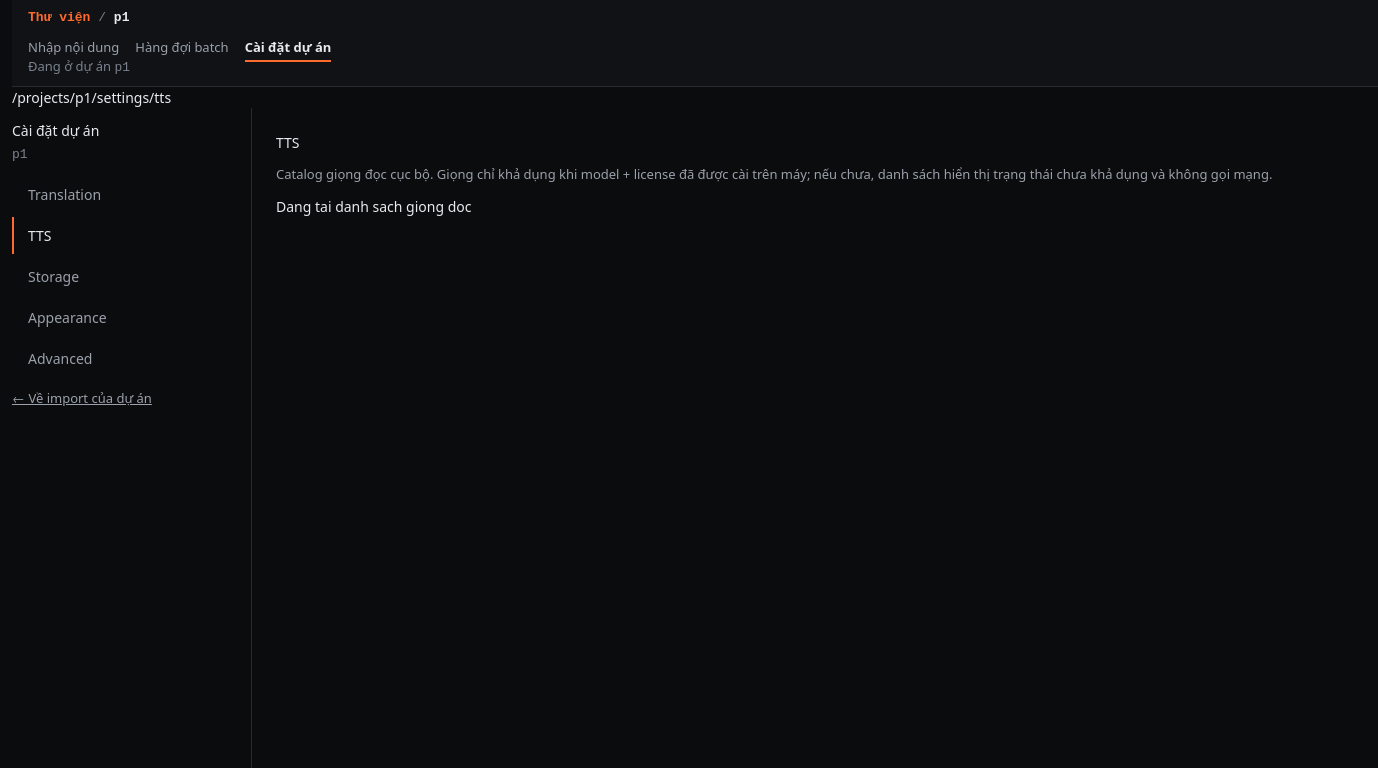
Scenario: project settings route integration (U02) › keeps the project context when the user moves back to another group
The width and height of the screenshot is (1378, 768).
expect the element named "TTS dự án" is shown: met, box [276,132,1354,217]
expect the navigation bar "dự án" shows "p1": met, box [114,10,129,25]
The group sidebar switches between nested groups with real links.
Step 1. Click the link "Storage" → (54, 276), box [28,267,79,286]
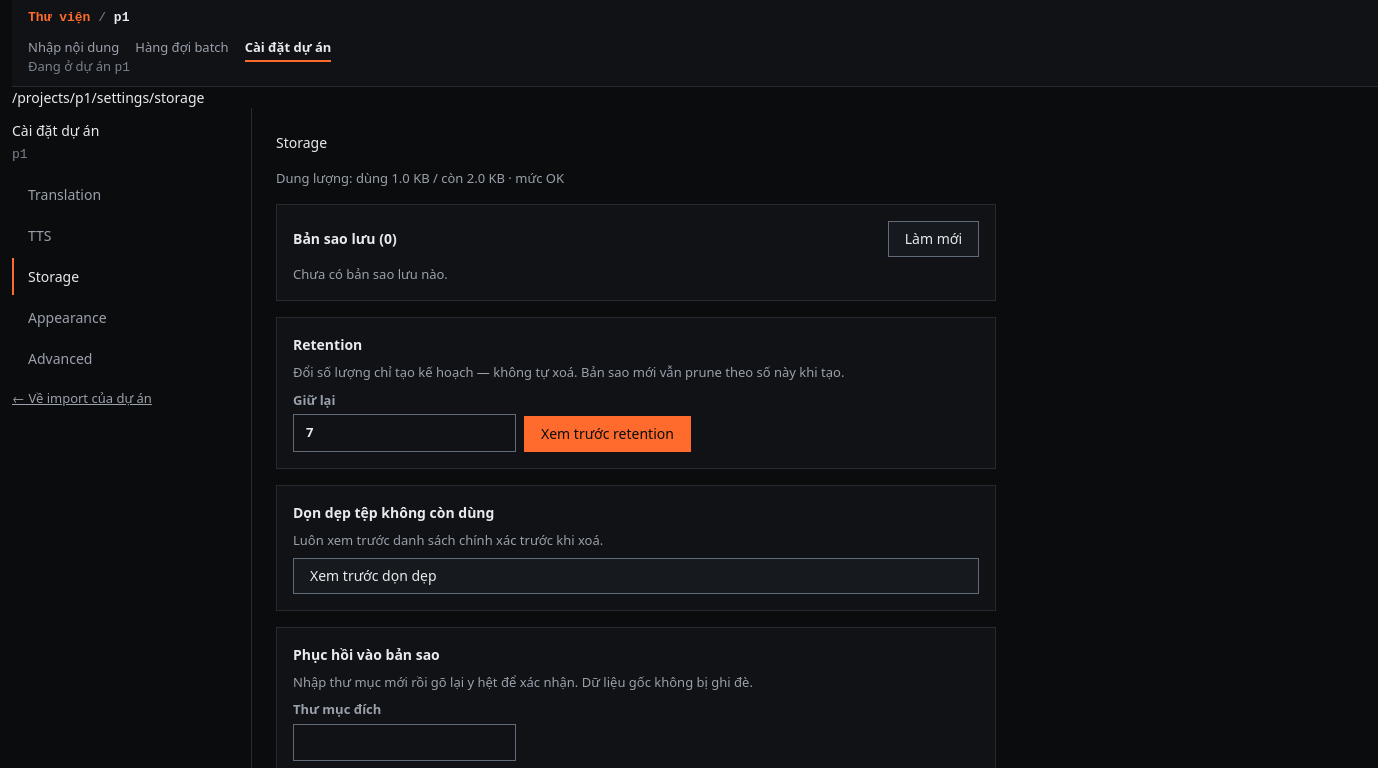
expect the navigation bar "dự án" shows "p1": met, box [114,10,129,25]
expect the message named "route" reads "/projects/p1/settings/storage": met, box [12,88,204,106]
